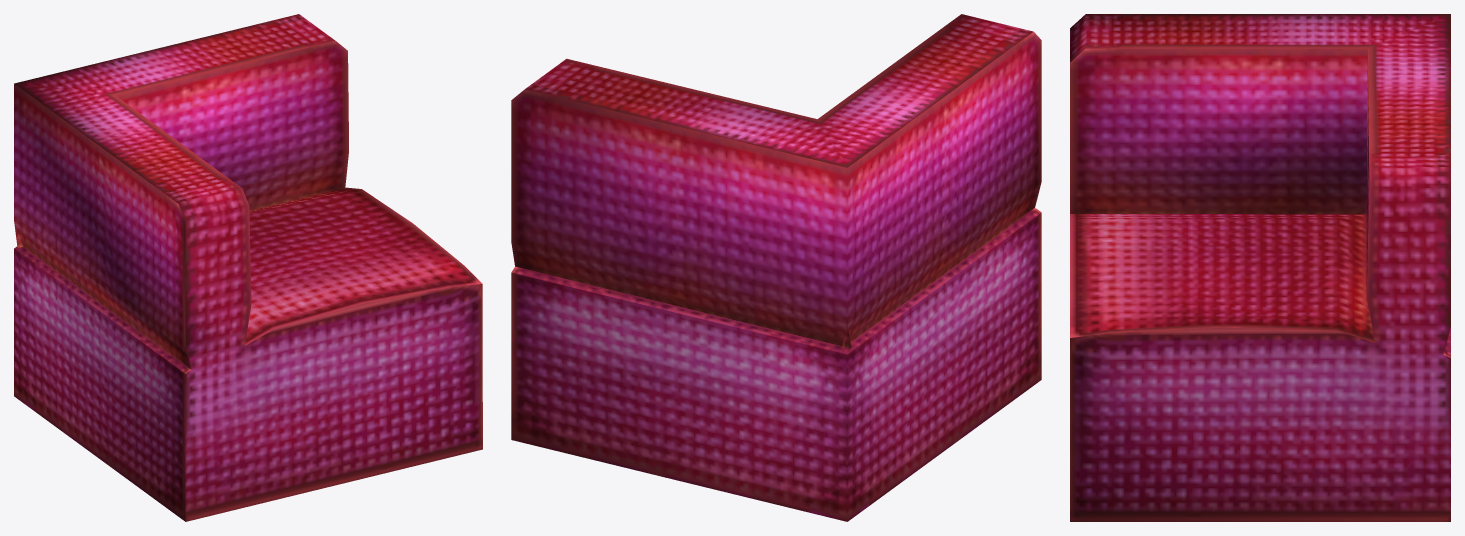
Rendered from furni_0200727.FBX.
3 views of the same model, side by side, from view 1: azimuth 30°, elevation 25°; view 2: azimuth 150°, elevation 25°; view 3: azimuth 270°, elevation 25° (orthographic). The views are drawn at different scales.
Parts seen in each view (by area): view 1: furni_0200727; view 2: furni_0200727; view 3: furni_0200727.
Boxes of the visible parts, x1,y1,x2,y2 form: furni_0200727: [14, 14, 482, 521]; furni_0200727: [511, 14, 1041, 521]; furni_0200727: [1070, 14, 1450, 521].
Bounding box in the file's own units: 80.25 × 80.72 × 80.27.
Materials: 1 (1 with a texture image).
